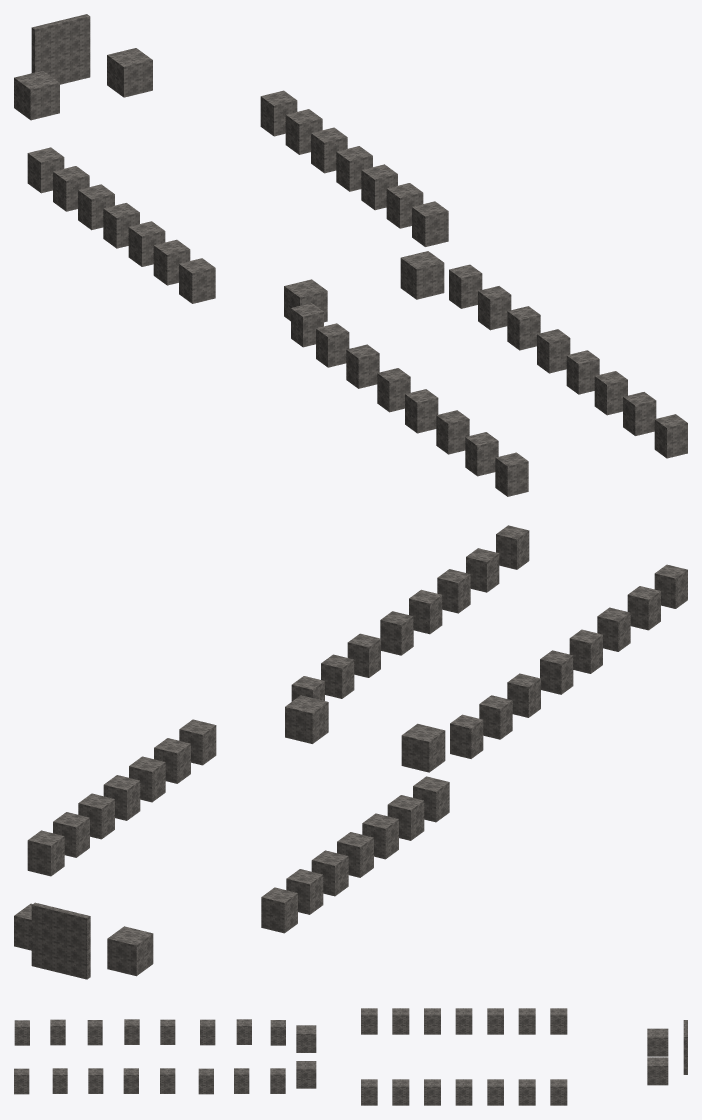
Rendered from RuinedRoadCollision.gltf.
The picture shows the model from 3 angles, top to bottom: view 1: azimuth 30°, elevation 25°; view 2: azimuth 150°, elevation 25°; view 3: azimuth 270°, elevation 25°; orthographic projection. The views are drawn at different scales.
Parts seen in each view (by area): view 1: RuinedRoadCollision; view 2: RuinedRoadCollision; view 3: RuinedRoadCollision.
Boxes of the visible parts, x1,y1,x2,y2 form: RuinedRoadCollision: [14, 14, 687, 496]; RuinedRoadCollision: [14, 525, 687, 979]; RuinedRoadCollision: [14, 1008, 687, 1105].
Bounding box in the file's own units: 35.2 × 8 × 128.
Materials: 1 (1 with a texture image).
